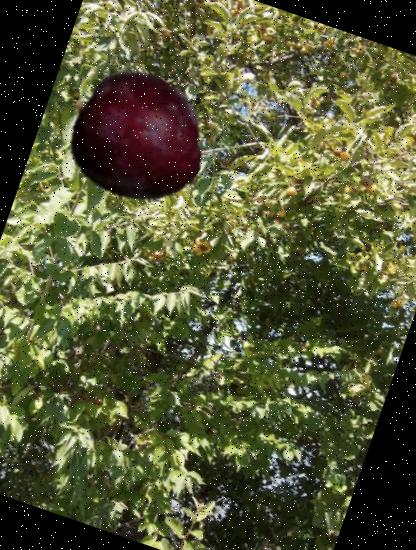Plum: (48, 48, 227, 226)
